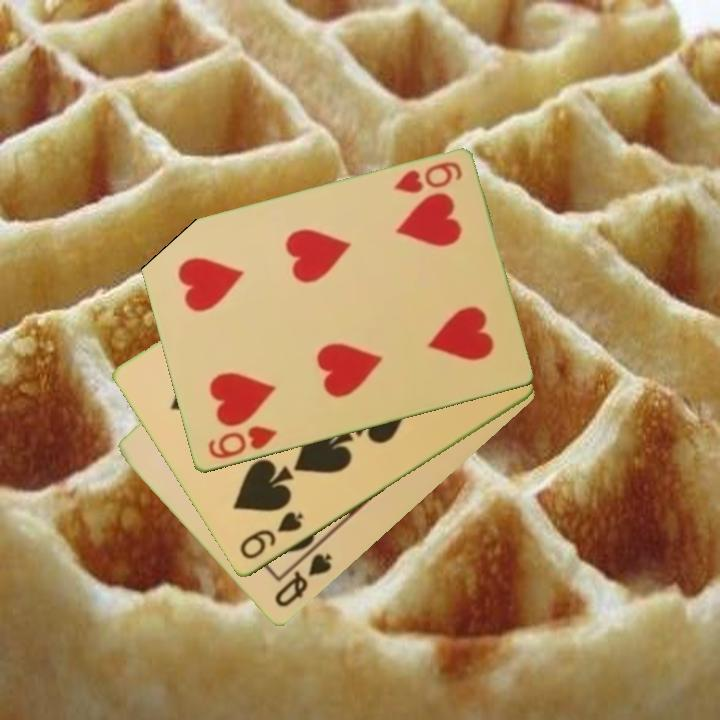6h: (204, 423, 280, 463), (390, 158, 465, 197)
9s: (235, 508, 307, 564)
Qs: (270, 550, 335, 611)
